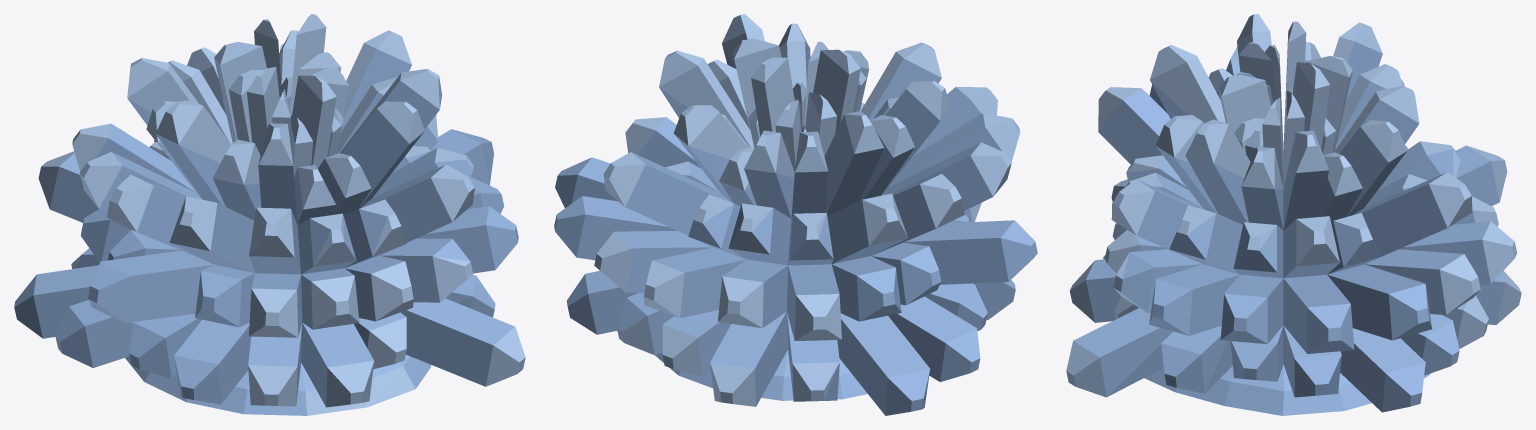
File: crystal_23.fbx
3 views of the same model, side by side, from view 1: azimuth 30°, elevation 25°; view 2: azimuth 150°, elevation 25°; view 3: azimuth 270°, elevation 25° (orthographic). The views are drawn at different scales.
Parts seen in each view (by area): view 1: crystal_23; view 2: crystal_23; view 3: crystal_23.
Part boxes in pixels (x1,y1,x2,y2): crystal_23: [14, 14, 525, 415]; crystal_23: [554, 14, 1037, 415]; crystal_23: [1066, 14, 1521, 415].
Bounding box in the file's own units: 462 × 307 × 416.
